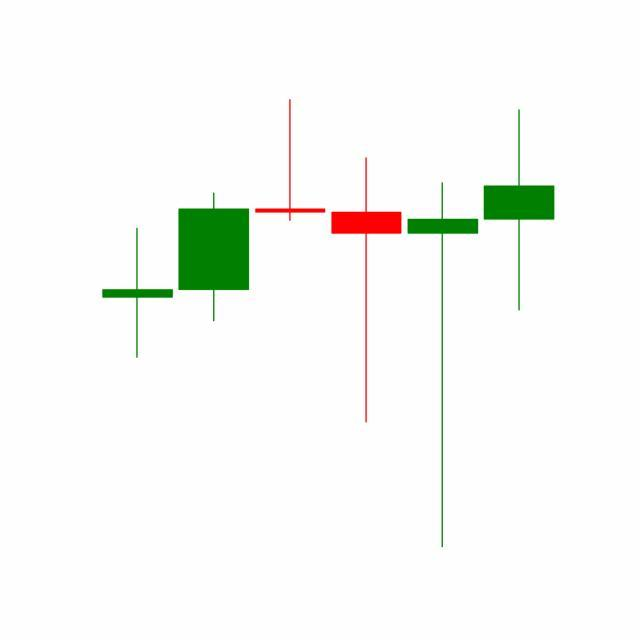Dragonfly Doji: (404, 179, 482, 552)
